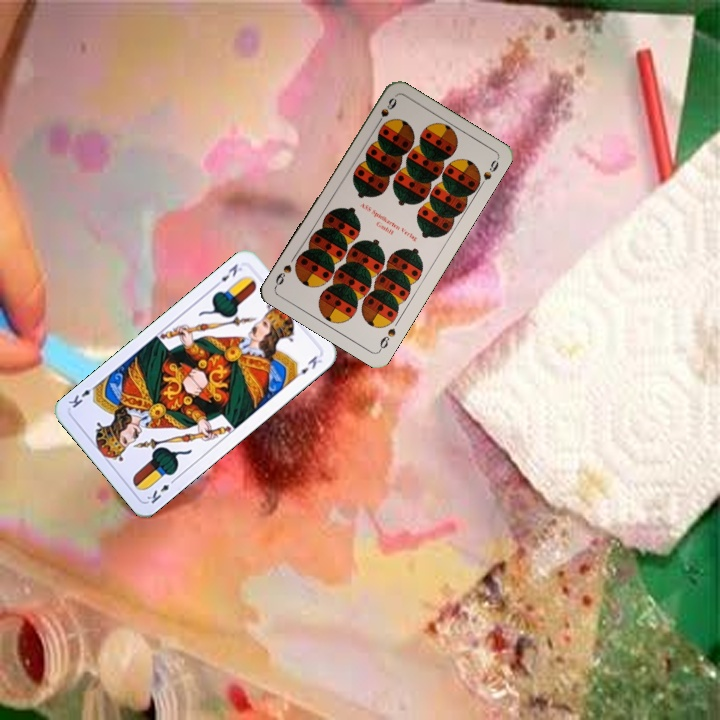EK: (143, 474, 179, 506), (211, 260, 244, 290)
S9: (372, 93, 399, 130), (375, 324, 398, 353)
